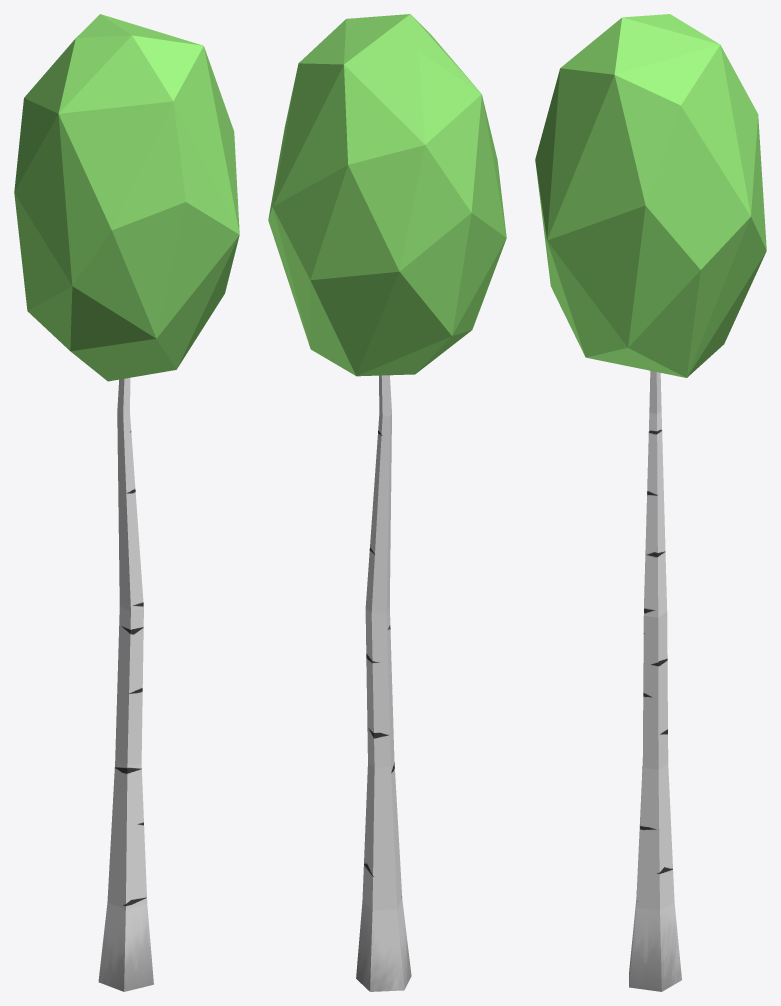
File: Birch_Tree_m_03.fbx
3 renders of one model, left to right at view 1: azimuth 30°, elevation 25°; view 2: azimuth 150°, elevation 25°; view 3: azimuth 270°, elevation 25°, orthographic.
Parts seen in each view (by area): view 1: Birch_Tree_m_03; view 2: Birch_Tree_m_03; view 3: Birch_Tree_m_03.
Boxes of the visible parts, x1=… form: Birch_Tree_m_03: x1=14, y1=14, x2=239, y2=991; Birch_Tree_m_03: x1=268, y1=14, x2=506, y2=991; Birch_Tree_m_03: x1=535, y1=14, x2=766, y2=991.
Size of the model in its own units: 141 by 632 by 139.
